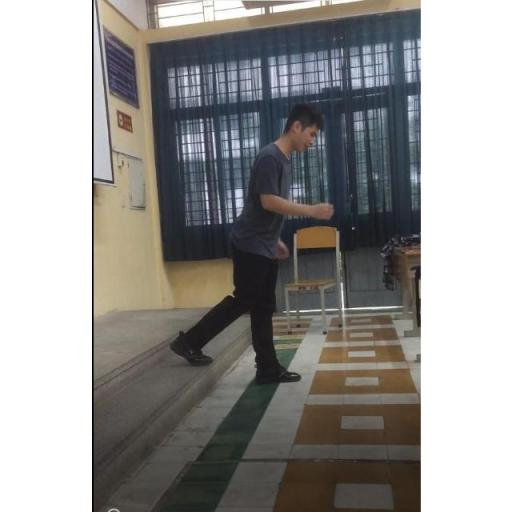Running: (164, 96, 338, 386)
